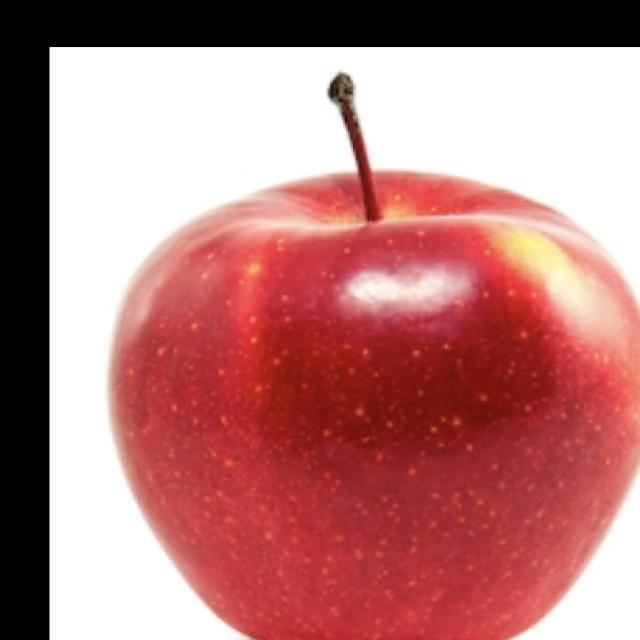Fresh Apple: (133, 176, 640, 639)
